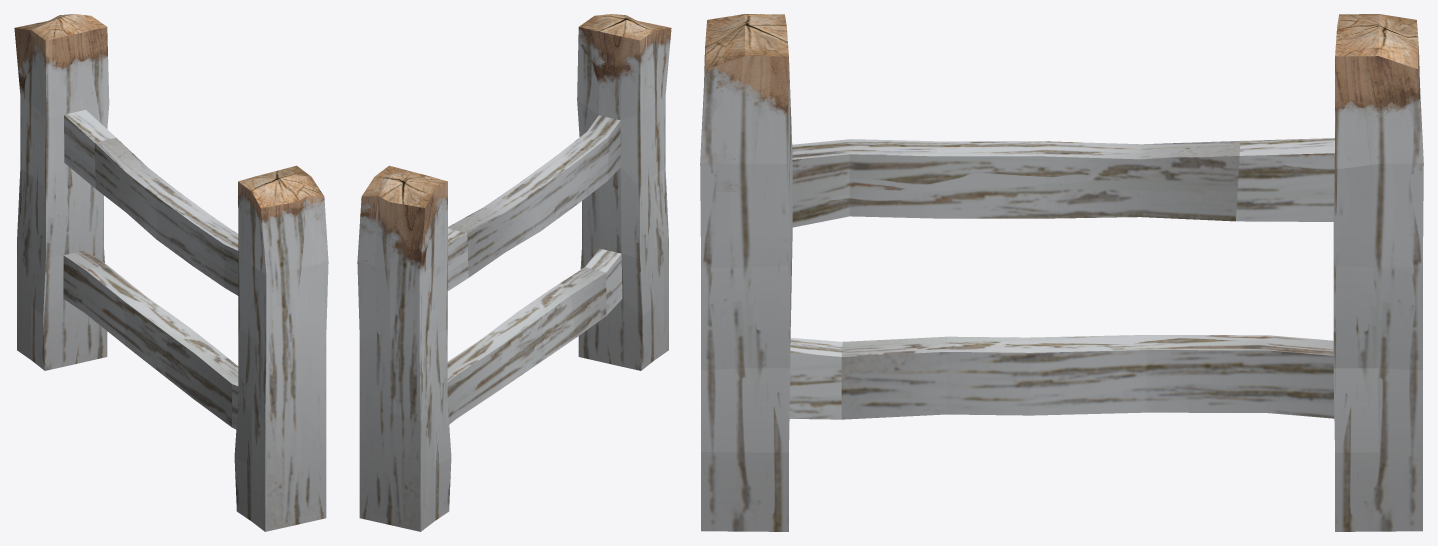
The model's file is fencee.fbx.
The picture shows the model from 3 angles, left to right: view 1: azimuth 30°, elevation 25°; view 2: azimuth 150°, elevation 25°; view 3: azimuth 270°, elevation 25°; orthographic projection. The views are drawn at different scales.
Parts seen in each view (by area): view 1: fence; view 2: fence; view 3: fence.
Boxes of the visible parts, x1=… form: fence: x1=14, y1=14, x2=328, y2=531; fence: x1=357, y1=14, x2=671, y2=531; fence: x1=700, y1=14, x2=1423, y2=531.
Bounding box in the file's own units: 95.27 × 461 × 624.
1 material, 1 textured.
